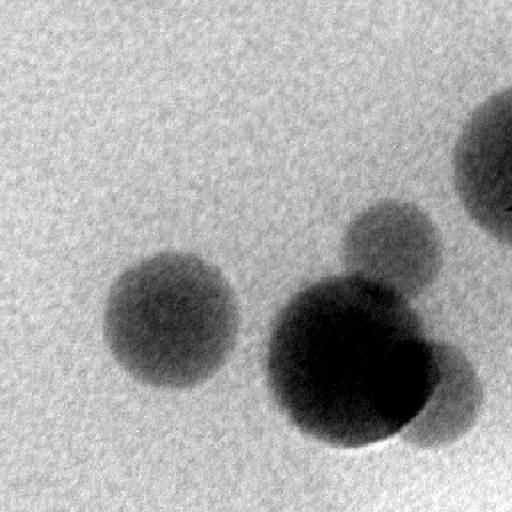Nanoparticles: (260, 274, 439, 454), (98, 246, 244, 393), (339, 196, 451, 306), (383, 338, 487, 450), (450, 83, 512, 245)
